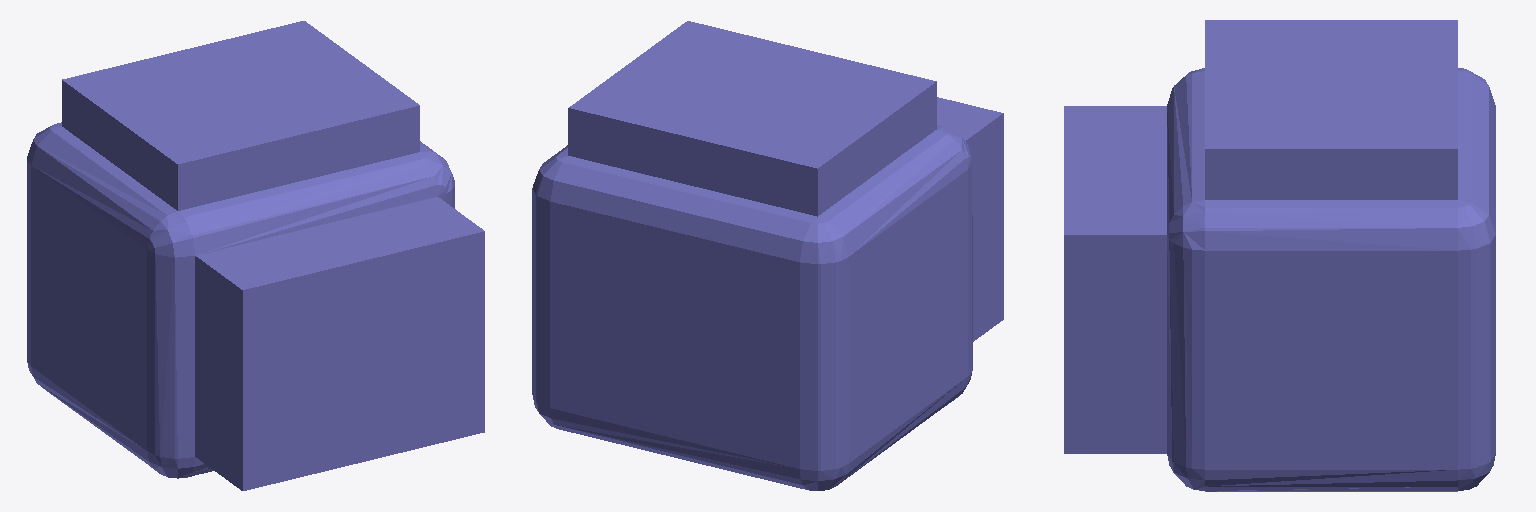
robot.urdf — generated_simplified_robot:
<?xml version='1.0' encoding='utf-8'?>
<robot name="generated_simplified_robot">
  <link name="base" />
  <joint name="floating_base" type="fixed">
    <origin xyz="0 0 0" rpy="0 0 0" />
    <parent link="base" />
    <child link="Part_1" />
  </joint>
  <link name="Part_1">
    <visual>
      <origin xyz="0 0 0" rpy="0 0 0" />
      <geometry>
        <mesh filename="meshes/Part_1.stl" />
      </geometry>
      <material name="Part_1_color">
        <color rgba="0.8 0.4 0.1 1.0" />
      </material>
    </visual>
  </link>
  <joint name="Revolute_2" type="revolute">
    <origin xyz="-0.015 0.0025 -0.0012" rpy="1.5708 0 1.5708" />
    <parent link="Part_1" />
    <child link="Part_1_2" />
    <axis xyz="0 0 1" />
    <limit effort="80" velocity="5" lower="-1.5707963" upper="1.5707963" />
  </joint>
  <link name="Part_1_2">
    <visual>
      <origin xyz="0 0 0" rpy="0 0 0" />
      <geometry>
        <mesh filename="meshes/Part_1_2.stl" />
      </geometry>
      <material name="Part_1_2_color">
        <color rgba="0.7 0.6 0.3 1.0" />
      </material>
    </visual>
  </link>
  <joint name="Revolute_3" type="revolute">
    <origin xyz="0 0.0025 -0.014" rpy="3.1415927 0 0" />
    <parent link="Part_1" />
    <child link="Part_1_3" />
    <axis xyz="0 0 -1" />
    <limit effort="80" velocity="5" lower="-1.5707963" upper="1.5707963" />
  </joint>
  <link name="Part_1_3">
    <visual>
      <origin xyz="0 0 0" rpy="0 0 0" />
      <geometry>
        <mesh filename="meshes/Part_1_3.stl" />
      </geometry>
      <material name="Part_1_3_color">
        <color rgba="0.5 0.5 0.8 1.0" />
      </material>
    </visual>
  </link>
</robot>

--- Facts derived from the render (not from the file) ---
Views: 3 orthographic renders of the robot side by side, from view 1: azimuth 30°, elevation 25°; view 2: azimuth 150°, elevation 25°; view 3: azimuth 270°, elevation 25°.
Model generated_simplified_robot with 4 links and 3 joints (2 revolute, 1 fixed), rooted at base, posed all joints at 0.
Visible links, largest first — view 1: Part_1_3; view 2: Part_1_3; view 3: Part_1_3.
Boxes of the visible links, <box> form: Part_1_3: <box>27,21,484,490</box>; Part_1_3: <box>532,21,1003,490</box>; Part_1_3: <box>1064,20,1495,491</box>.
Size in the robot's own frame: 0.03 by 0.034 by 0.0294 metres.
1 mesh visuals loaded from 3 distinct referenced files (1 binary STL); not drawn: 2 (reference not matched to a file when rendering).